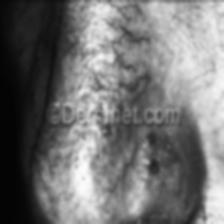Toxin: (92, 74, 126, 106), (144, 131, 163, 173), (92, 120, 114, 140)
